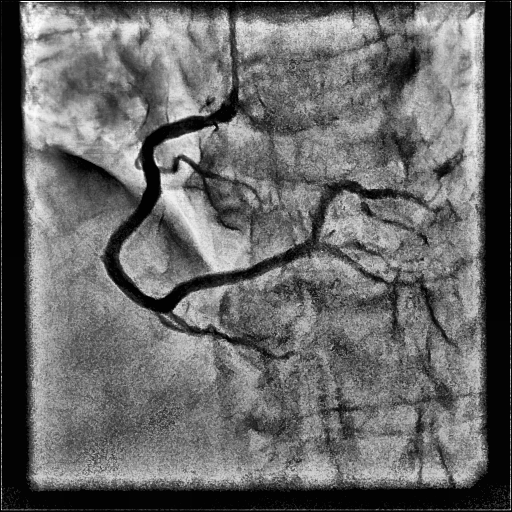pborca: (312, 180, 438, 242)
pda: (319, 242, 394, 284)
rca: (102, 109, 318, 313)
